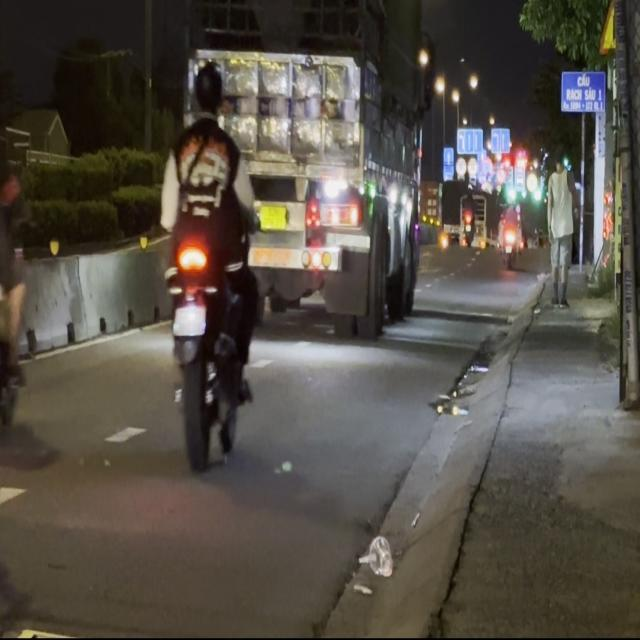licenseplate: (156, 56, 262, 470), (0, 18, 34, 450)
motorcyclist: (189, 60, 224, 119)
nohelmet: (172, 304, 205, 334)
